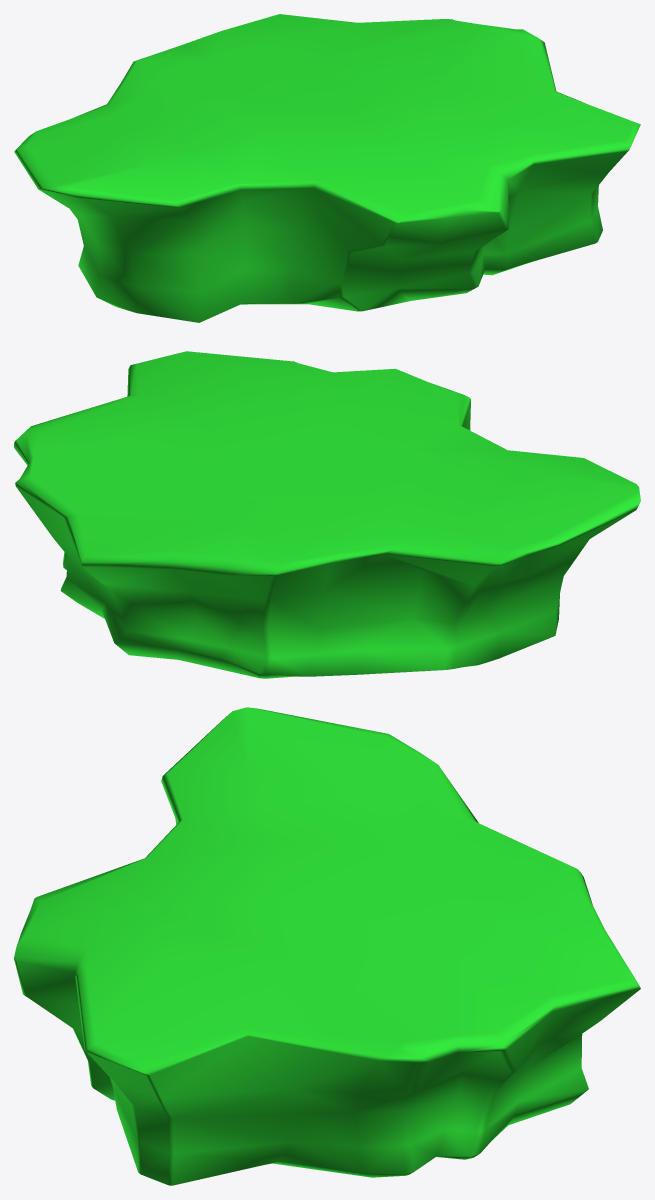
The model's file is flat_rock_00.fbx.
The picture shows the model from 3 angles, top to bottom: view 1: azimuth 30°, elevation 25°; view 2: azimuth 150°, elevation 25°; view 3: azimuth 270°, elevation 25°; orthographic projection. The views are drawn at different scales.
Parts seen in each view (by area): view 1: rock_flat_00; view 2: rock_flat_00; view 3: rock_flat_00.
Boxes of the visible parts, left/top/right/bottom form: rock_flat_00: left=14, top=14, right=640, bottom=322; rock_flat_00: left=14, top=351, right=640, bottom=678; rock_flat_00: left=14, top=707, right=640, bottom=1185.
Bounding box in the file's own units: 1739 × 462 × 1427.
